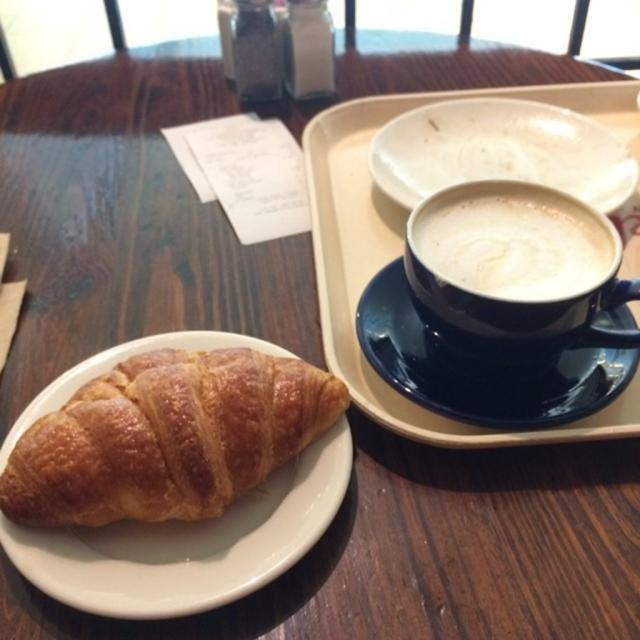Croissant: (0, 348, 353, 523)
